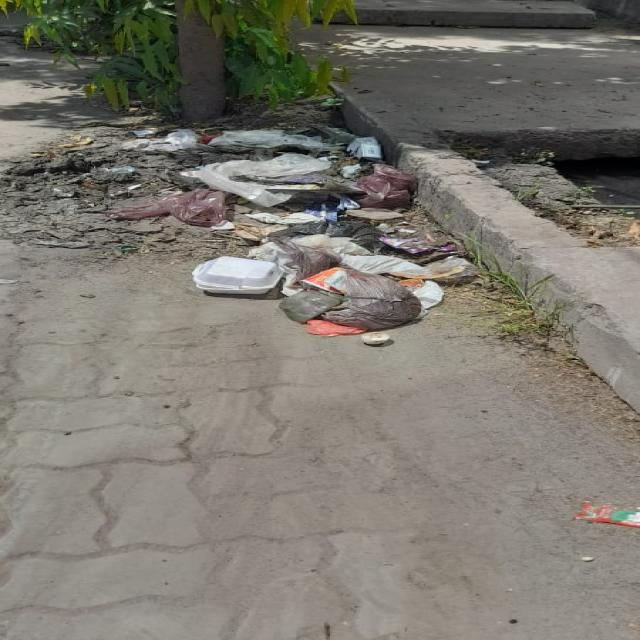plastic: (111, 157, 327, 228), (280, 267, 418, 341), (320, 268, 421, 332)
styrofoam: (192, 257, 283, 296)
